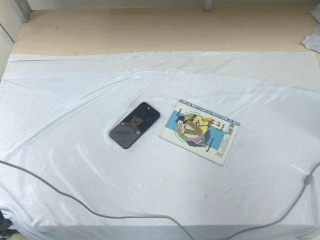book: (159, 99, 240, 167)
phone: (108, 101, 161, 149)
